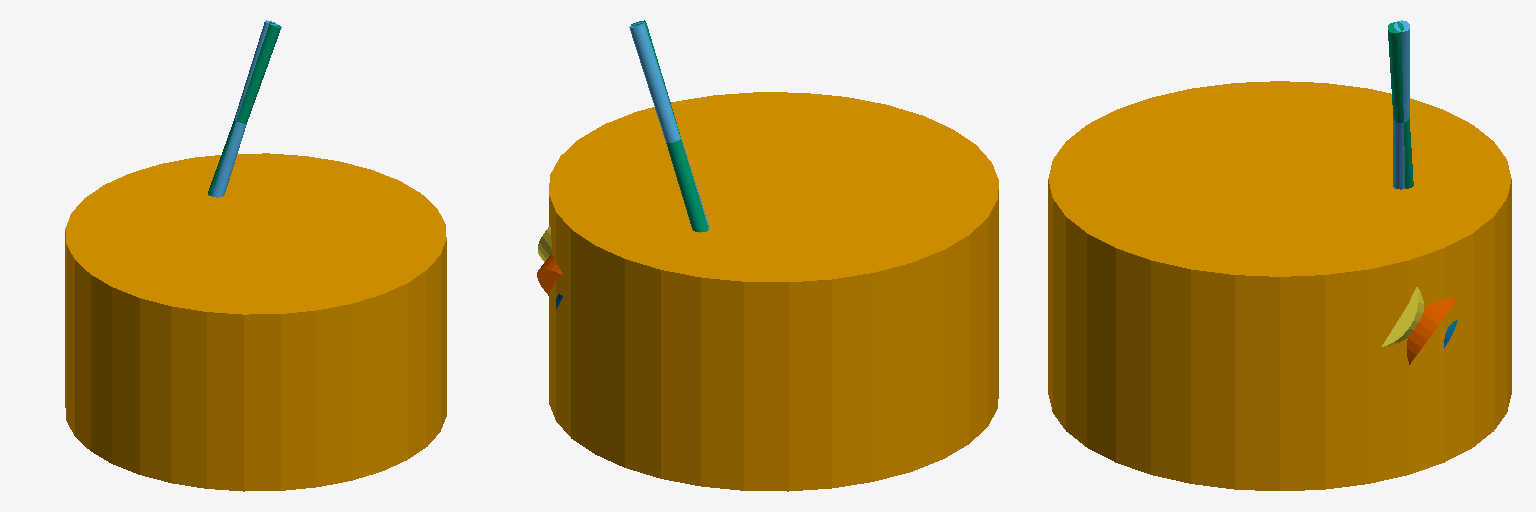
The robot description file, URDF, robot "pepe":
<robot name="pepe">
	<link name="0">
		<visual>
			<geometry>
				<cylinder length="0.8592440908158552" radius="0.8410109571107248"/>
			</geometry>
		</visual>
		<collision>
			<geometry>
				<cylinder length="0.8592440908158552" radius="0.8410109571107248"/>
			</geometry>
		</collision>
		<inertial>
			<mass value="1.9092804905754177"/>
			<inertia ixx="0.03" iyy="0.03" izz="0.03" ixy="0" ixz="0" iyx="0"/>
		</inertial>
	</link>
	<link name="11">
		<visual>
			<geometry>
				<cylinder length="0.931342287061448" radius="0.029604239777924146"/>
			</geometry>
		</visual>
		<collision>
			<geometry>
				<cylinder length="0.931342287061448" radius="0.029604239777924146"/>
			</geometry>
		</collision>
		<inertial>
			<mass value="0.0025642893058701504"/>
			<inertia ixx="0.03" iyy="0.03" izz="0.03" ixy="0" ixz="0" iyx="0"/>
		</inertial>
	</link>
	<link name="12">
		<visual>
			<geometry>
				<cylinder length="0.931342287061448" radius="0.029604239777924146"/>
			</geometry>
		</visual>
		<collision>
			<geometry>
				<cylinder length="0.931342287061448" radius="0.029604239777924146"/>
			</geometry>
		</collision>
		<inertial>
			<mass value="0.0025642893058701504"/>
			<inertia ixx="0.03" iyy="0.03" izz="0.03" ixy="0" ixz="0" iyx="0"/>
		</inertial>
	</link>
	<link name="23">
		<visual>
			<geometry>
				<cylinder length="0.3762620677441708" radius="0.1789246460986148"/>
			</geometry>
		</visual>
		<collision>
			<geometry>
				<cylinder length="0.3762620677441708" radius="0.1789246460986148"/>
			</geometry>
		</collision>
		<inertial>
			<mass value="0.03784257185920819"/>
			<inertia ixx="0.03" iyy="0.03" izz="0.03" ixy="0" ixz="0" iyx="0"/>
		</inertial>
	</link>
	<link name="24">
		<visual>
			<geometry>
				<cylinder length="0.3762620677441708" radius="0.1789246460986148"/>
			</geometry>
		</visual>
		<collision>
			<geometry>
				<cylinder length="0.3762620677441708" radius="0.1789246460986148"/>
			</geometry>
		</collision>
		<inertial>
			<mass value="0.03784257185920819"/>
			<inertia ixx="0.03" iyy="0.03" izz="0.03" ixy="0" ixz="0" iyx="0"/>
		</inertial>
	</link>
	<link name="25">
		<visual>
			<geometry>
				<cylinder length="0.3762620677441708" radius="0.1789246460986148"/>
			</geometry>
		</visual>
		<collision>
			<geometry>
				<cylinder length="0.3762620677441708" radius="0.1789246460986148"/>
			</geometry>
		</collision>
		<inertial>
			<mass value="0.03784257185920819"/>
			<inertia ixx="0.03" iyy="0.03" izz="0.03" ixy="0" ixz="0" iyx="0"/>
		</inertial>
	</link>
	<joint name="11_to_0" type="revolute">
		<parent link="0"/>
		<child link="11"/>
		<axis xyz="0 0 1"/>
		<limit effort="1" upper="-3.1415" lower="3.1415" velocity="1"/>
		<origin rpy="6.18035866737744 3.4702977233726573 0.3258792651083962" xyz="0.17689580424762807 0.44069609796301823 0.7589384082652485"/>
	</joint>
	<joint name="12_to_0" type="revolute">
		<parent link="0"/>
		<child link="12"/>
		<axis xyz="0 0 1"/>
		<limit effort="1" upper="-3.1415" lower="3.1415" velocity="1"/>
		<origin rpy="9.27053800106616 3.4702977233726573 0.3258792651083962" xyz="0.17689580424762807 0.44069609796301823 0.7589384082652485"/>
	</joint>
	<joint name="23_to_0" type="revolute">
		<parent link="0"/>
		<child link="23"/>
		<axis xyz="0 0 1"/>
		<limit effort="1" upper="-3.1415" lower="3.1415" velocity="1"/>
		<origin rpy="10.11349457794136 5.402199333057146 1.9591320375952974" xyz="0.4994598277855792 0.3916007418430635 0.15798073054839057"/>
	</joint>
	<joint name="24_to_0" type="revolute">
		<parent link="0"/>
		<child link="24"/>
		<axis xyz="0 0 1"/>
		<limit effort="1" upper="-3.1415" lower="3.1415" velocity="1"/>
		<origin rpy="12.6418682224267 5.402199333057146 1.9591320375952974" xyz="0.4994598277855792 0.3916007418430635 0.15798073054839057"/>
	</joint>
	<joint name="25_to_0" type="revolute">
		<parent link="0"/>
		<child link="25"/>
		<axis xyz="0 0 1"/>
		<limit effort="1" upper="-3.1415" lower="3.1415" velocity="1"/>
		<origin rpy="15.17024186691204 5.402199333057146 1.9591320375952974" xyz="0.4994598277855792 0.3916007418430635 0.15798073054839057"/>
	</joint>
</robot>

--- Render facts (derived) ---
The picture shows the robot from 3 angles, left to right: view 1: azimuth 30°, elevation 25°; view 2: azimuth 150°, elevation 25°; view 3: azimuth 270°, elevation 25°; orthographic projection.
Model pepe with 6 links and 5 joints (5 revolute), rooted at 0, posed every joint at zero.
Visible links, largest first — view 1: 0, 12, 11; view 2: 0, 11, 12, 25; view 3: 0, 12, 11, 25, 23.
Link boxes in pixels (x1,y1,x2,y2): 0: (65,153,446,491); 12: (208,22,281,195); 11: (212,20,277,197); 0: (549,92,998,491); 11: (629,22,709,228); 12: (631,20,708,232); 25: (537,255,562,295); 0: (1048,81,1511,490); 12: (1388,22,1413,188); 11: (1393,20,1409,189); 25: (1406,298,1456,364); 23: (1382,287,1423,346).
Bounding box of the posed robot: 1.68 × 1.68 × 1.64 m (x, y, z).
Geometry: primitives only (box / cylinder / sphere), no mesh files.
